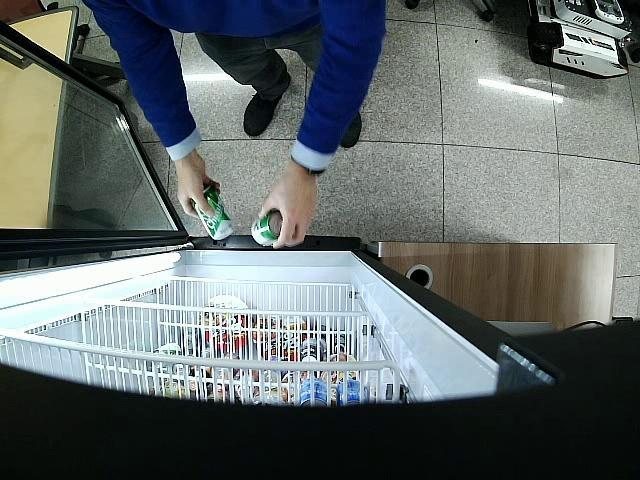12_chilsungCider: (193, 185, 234, 241), (250, 210, 282, 246)
